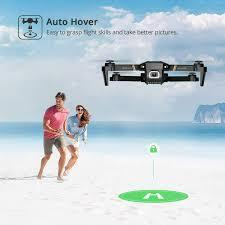drone: (98, 54, 216, 90)
